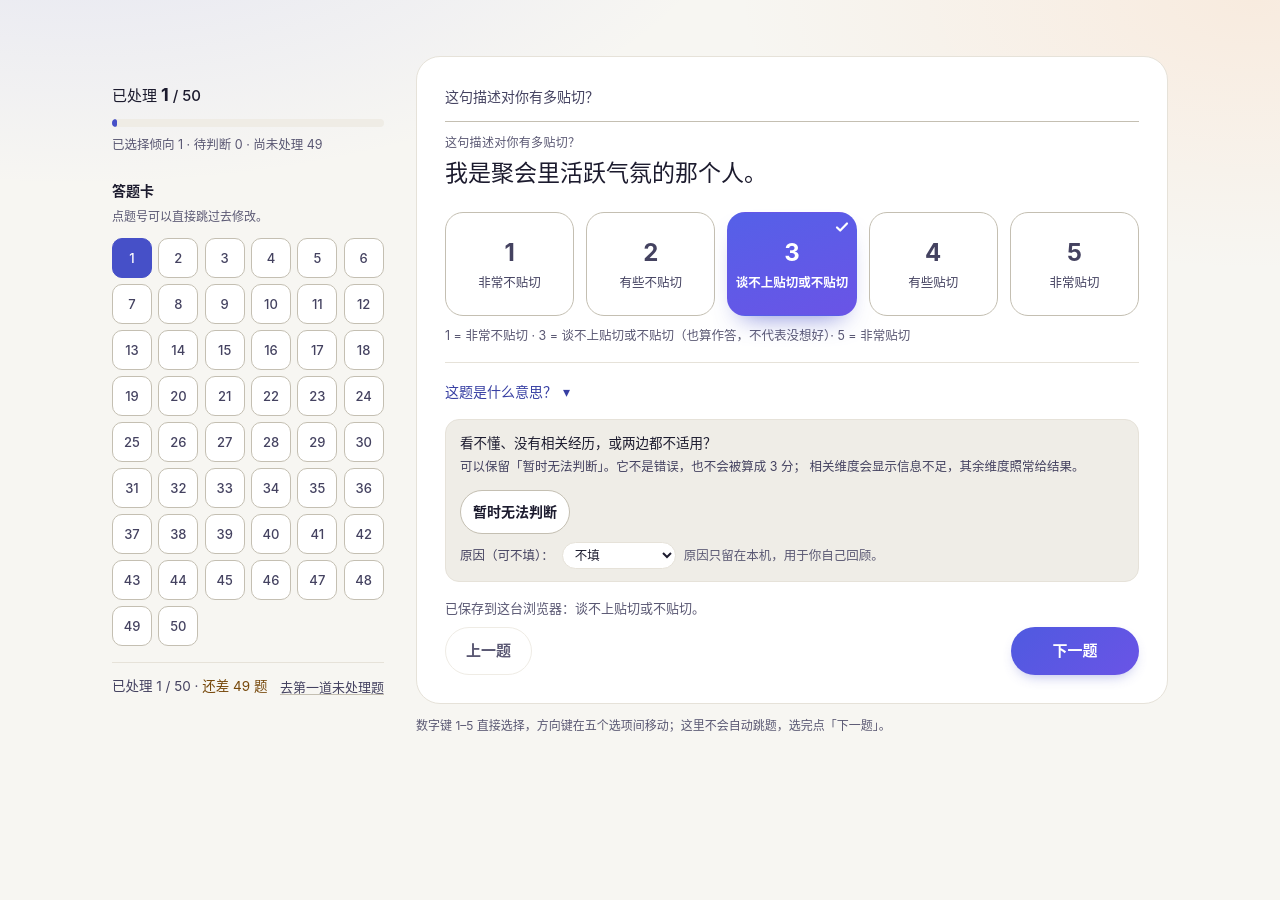
Test: 答题页（产品方案 §3.2 / §3.3） › 帮助展开/收起多次后，已选答案与报告指纹都不变
The width and height of the screenshot is (1280, 900).
Click the button "这题是什么意思？ ▾" at {"x": 508, "y": 392}, box 445,380 -> 570,404
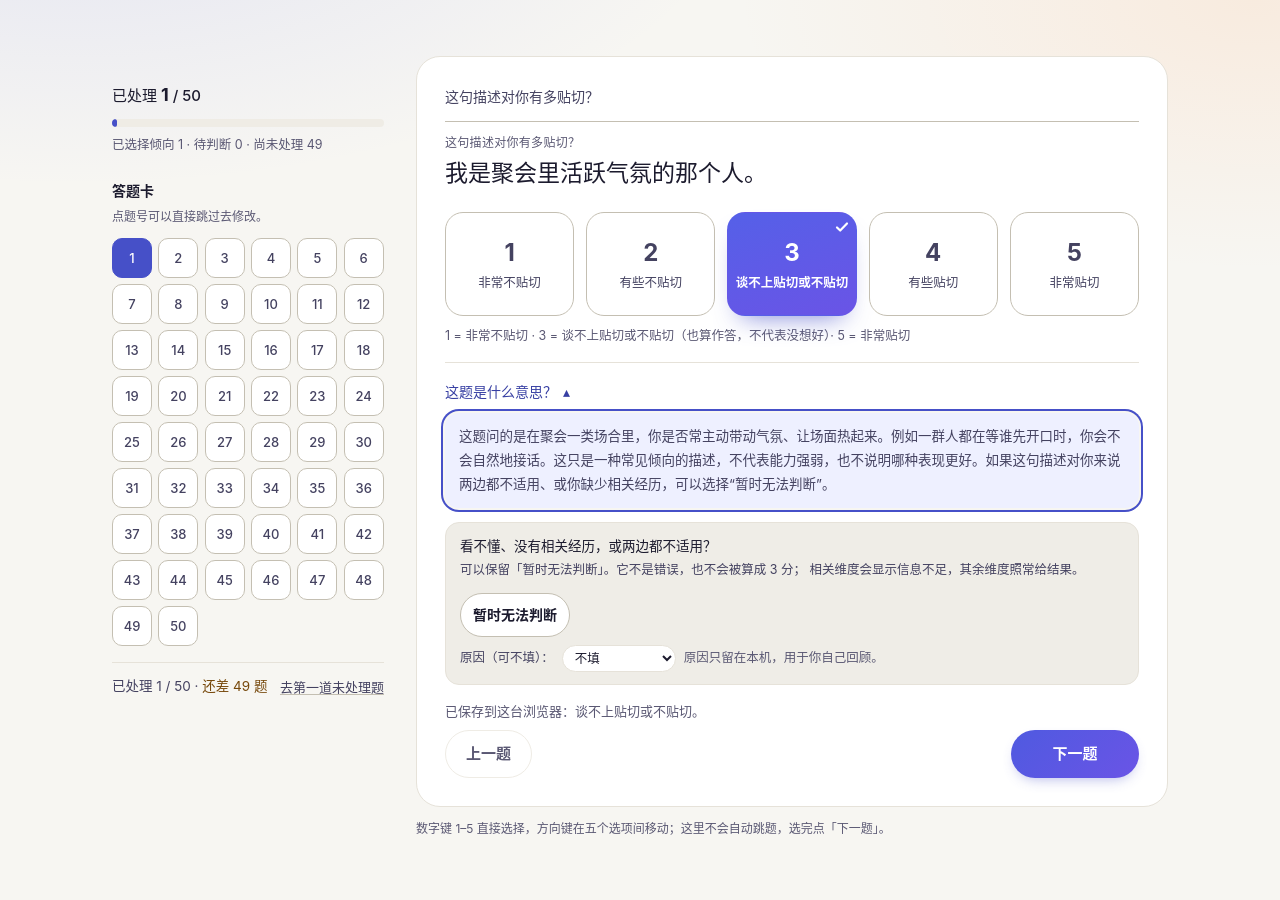
Click the button "这题是什么意思？ ▴" at {"x": 508, "y": 392}, box 445,380 -> 570,404
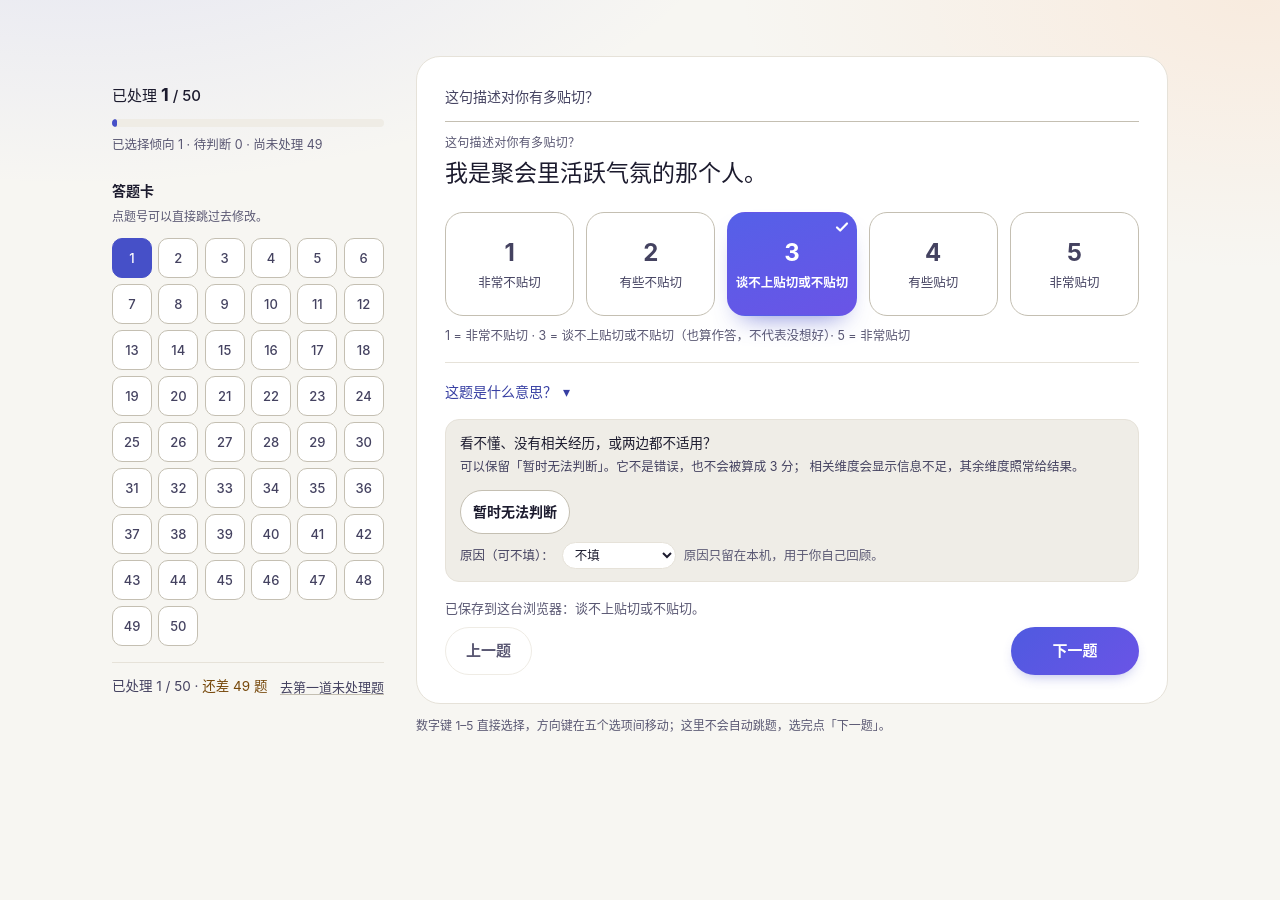
Click the button "这题是什么意思？ ▾" at {"x": 508, "y": 392}, box 445,380 -> 570,404
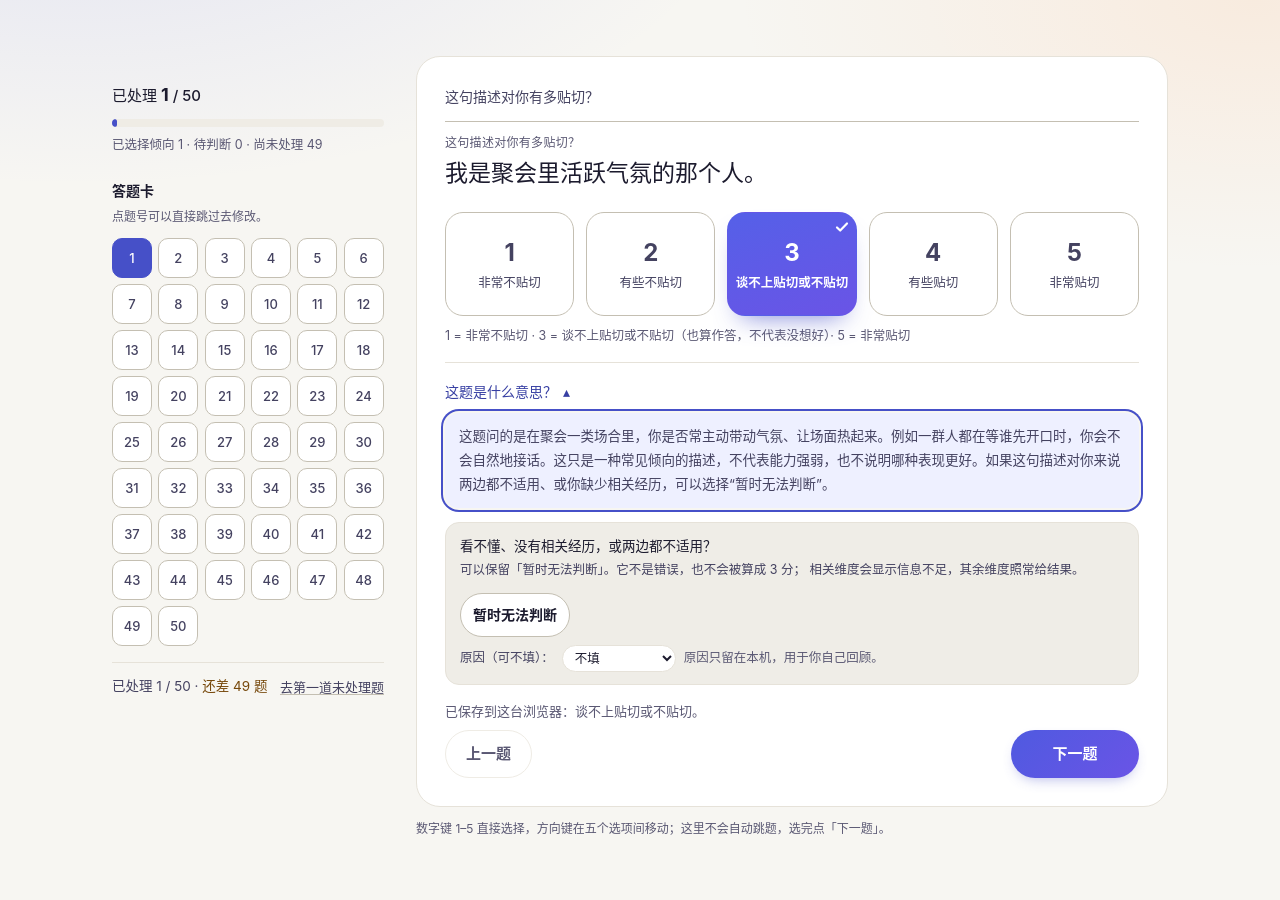
Check: the button "这题是什么意思？ ▴" is expanded
Check: the text "这题问的是在聚会一类场合里，你是否常主动带动气氛、让场面热起来。例如一群人都在等谁先开口时，你会不会自然地接话。这只是一种常见倾向的描述，不代表能力强弱，也不说明哪种表现更好。如果这句描述对你来说两边都不适用、或你缺少相关经历，可以选择“暂时无法判断”。" is shown, box 459,428 -> 1120,492
Click the button "这题是什么意思？ ▴" at {"x": 508, "y": 392}, box 445,380 -> 570,404
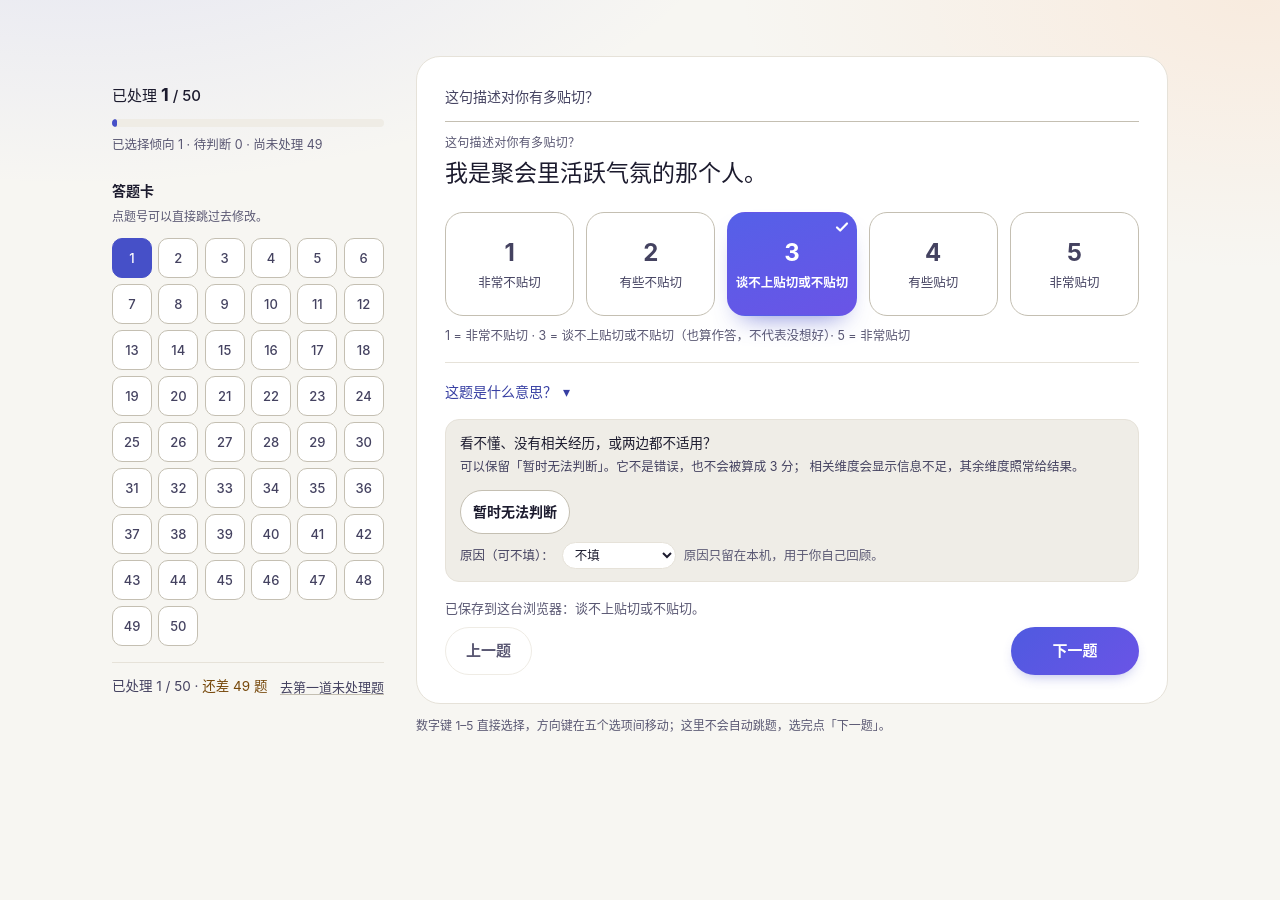
Check: the button "这题是什么意思？ ▾" is collapsed, box 445,380 -> 570,404
